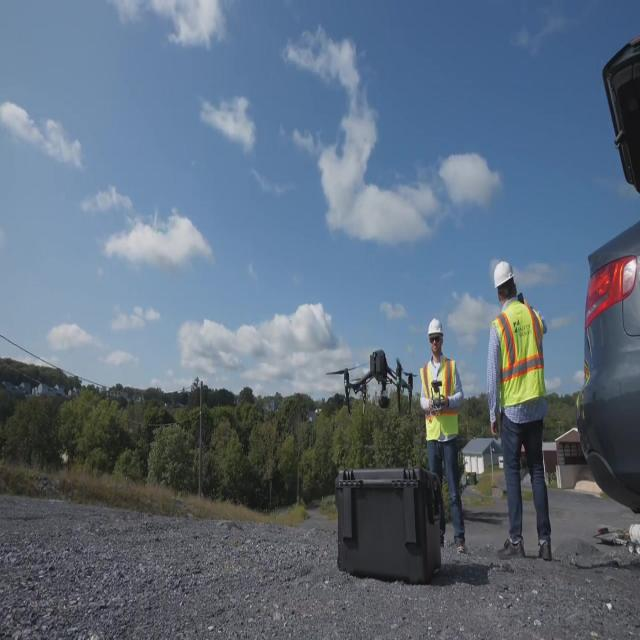Reflective-Jacket: (483, 300, 559, 434), (414, 356, 466, 454)
Safety-Helmet: (487, 250, 522, 300), (422, 308, 450, 354)
